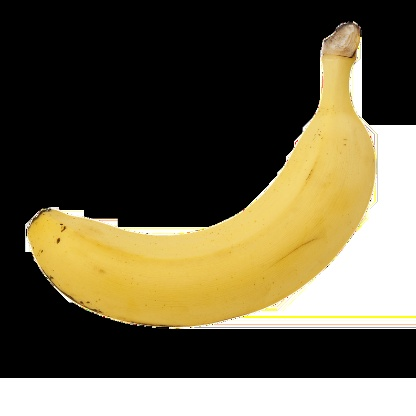chuoi: (21, 15, 397, 325)
